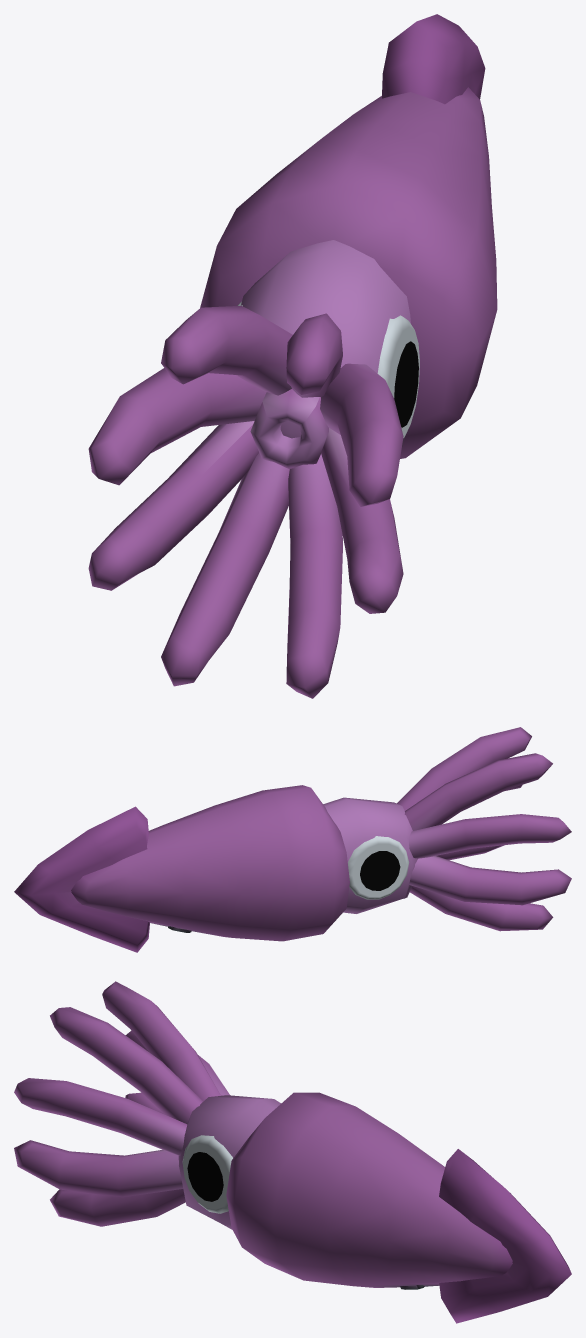
The model's file is Squid.glb.
3 renders of one model, top to bottom at view 1: azimuth 30°, elevation 25°; view 2: azimuth 150°, elevation 25°; view 3: azimuth 270°, elevation 25°, orthographic. The views are drawn at different scales.
Parts seen in each view (by area): view 1: 160; view 2: 160; view 3: 160.
Part boxes in pixels (bbox=[...]): 160: bbox=[88, 14, 497, 698]; 160: bbox=[14, 727, 571, 952]; 160: bbox=[14, 981, 571, 1323].
Size of the model in its own units: 0.7384 by 0.3304 by 0.8016.
